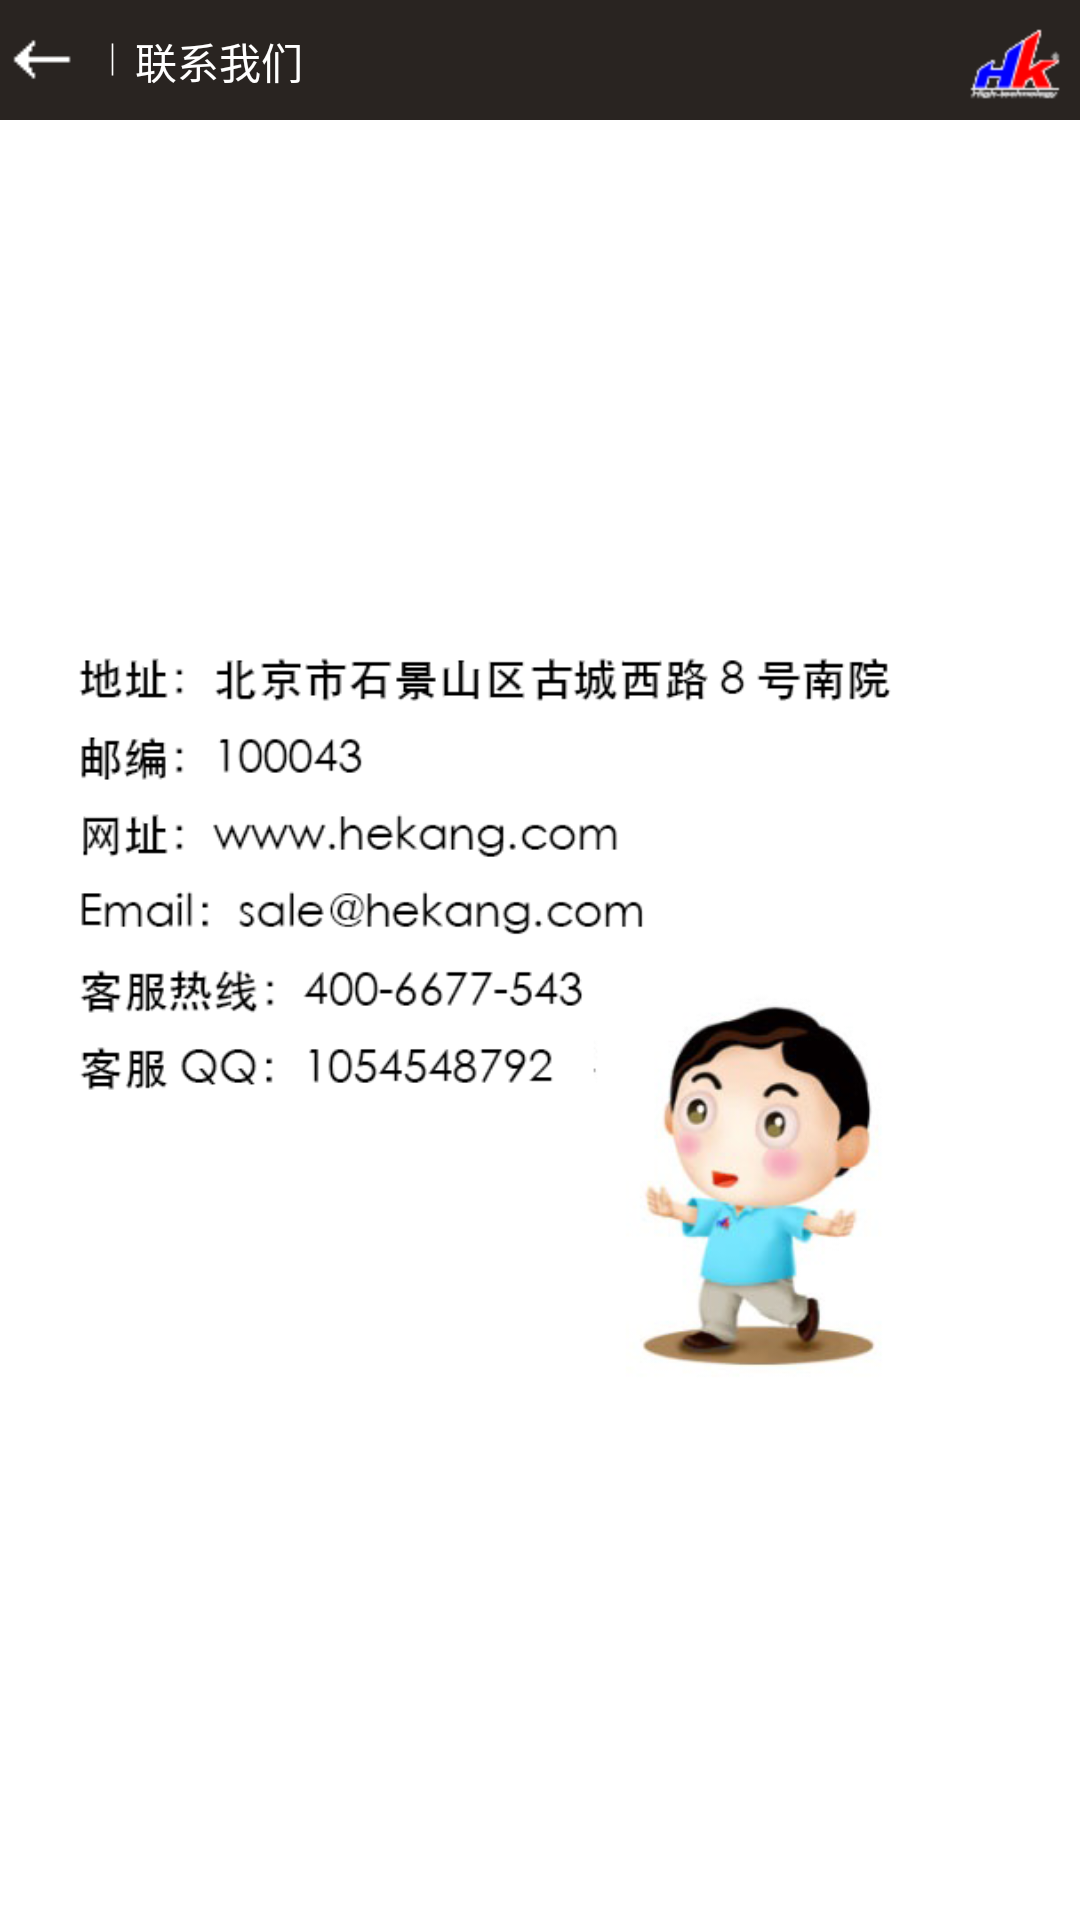

Screen size 1080px×1920px. Icon name, then its box in pixels as (x1, y1, x2, y2):
houtui: (13, 40, 71, 79)
